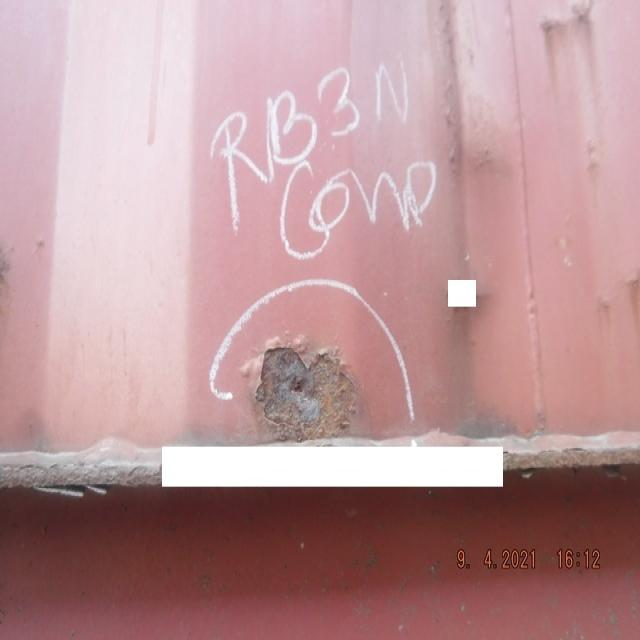hole: (240, 336, 360, 449)
